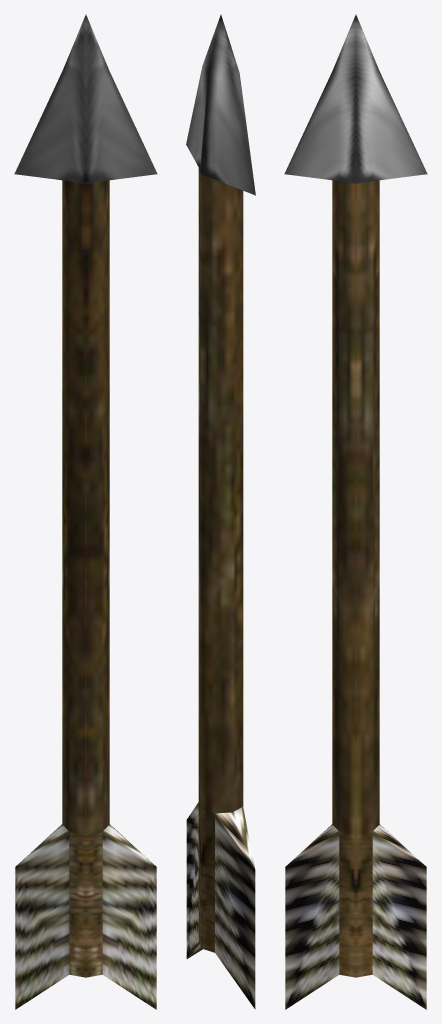
File: ArrowFBX.fbx
3 views of the same model, side by side, from view 1: azimuth 90°, elevation 25°; view 2: azimuth 210°, elevation 25°; view 3: azimuth 270°, elevation 25° (orthographic). The views are drawn at different scales.
Parts seen in each view (by area): view 1: Cube; view 2: Cube; view 3: Cube.
Part boxes in pixels (left/top/right/bottom): Cube: left=14, top=14, right=157, bottom=1009; Cube: left=186, top=14, right=255, bottom=1009; Cube: left=284, top=14, right=427, bottom=1009.
Size of the model in its own units: 0.2 by 4.67 by 0.6086.
